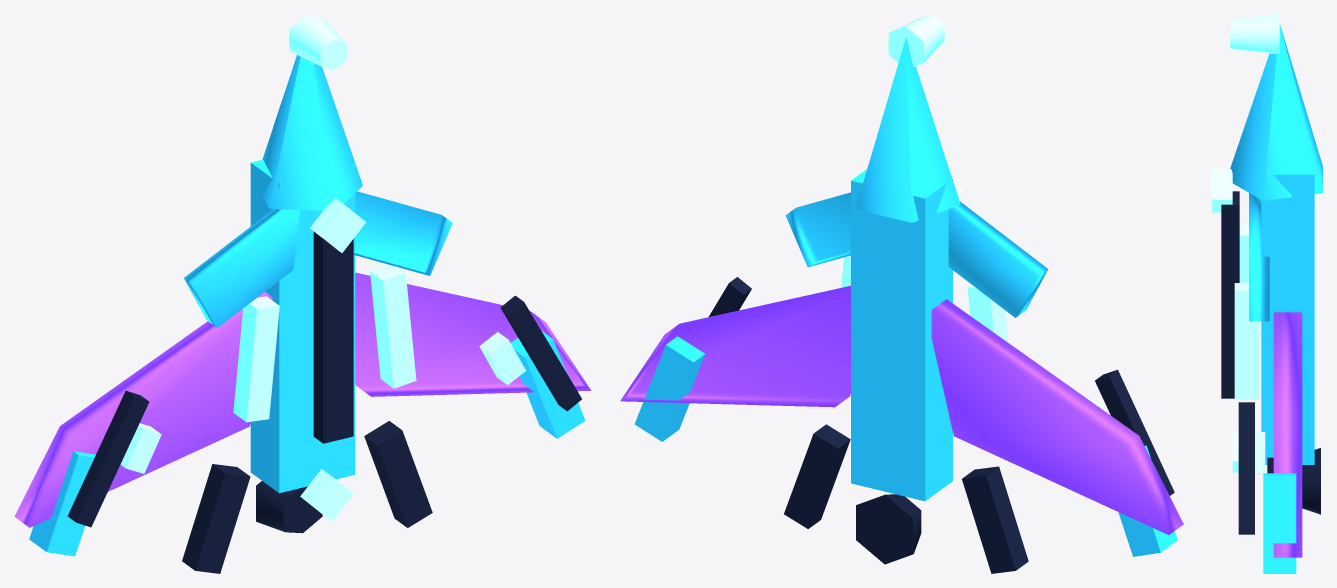
Rendered from enemy-skimmer.glb.
3 renders of one model, left to right at view 1: azimuth 30°, elevation 25°; view 2: azimuth 150°, elevation 25°; view 3: azimuth 270°, elevation 25°, orthographic. The views are drawn at different scales.
Parts seen in each view (by area): view 1: left_knife_wing, needle_body, right_knife_wing, nose_spike, black_service_spine, left_forward_canard, right_forward_canard, left_acceleration_slit, left_tail_vane, right_acceleration_slit, right_tail_vane, left_cold_edge_frame (+9 smaller); view 2: needle_body, left_knife_wing, right_knife_wing, nose_spike, left_forward_canard, left_tail_vane, right_tip, right_tail_vane, rear_thruster, right_forward_canard, left_cold_edge_frame, needle_muzzle_glow (+3 smaller); view 3: needle_body, nose_spike, right_knife_wing, black_service_spine, right_tip, right_acceleration_slit, right_cold_edge_frame, right_forward_canard, needle_muzzle_glow, rear_thruster, front_capacitor_chip, left_acceleration_slit (+2 smaller).
Boxes of the visible parts, x1,y1,x2,y2 form: left_knife_wing: (14, 292, 272, 527); needle_body: (250, 159, 355, 493); right_knife_wing: (355, 272, 591, 396); nose_spike: (262, 55, 362, 210); black_service_spine: (313, 231, 353, 443); left_forward_canard: (184, 209, 300, 327); right_forward_canard: (353, 191, 452, 275); left_acceleration_slit: (233, 296, 279, 422); left_tail_vane: (182, 464, 250, 573); right_acceleration_slit: (370, 264, 416, 388); right_tail_vane: (364, 421, 432, 527); left_cold_edge_frame: (67, 390, 149, 527); needle_body: (851, 169, 952, 501); left_knife_wing: (931, 299, 1183, 534); right_knife_wing: (620, 286, 850, 407); nose_spike: (855, 37, 960, 222); left_forward_canard: (948, 201, 1048, 317); left_tail_vane: (962, 466, 1028, 573); right_tip: (634, 336, 705, 441); right_tail_vane: (784, 424, 850, 528); rear_thruster: (856, 494, 921, 564); right_forward_canard: (785, 192, 850, 267); left_cold_edge_frame: (1095, 369, 1174, 495); needle_muzzle_glow: (888, 14, 944, 66); needle_body: (1261, 169, 1314, 464); nose_spike: (1230, 23, 1322, 200); right_knife_wing: (1273, 312, 1302, 557); black_service_spine: (1221, 191, 1239, 398); right_tip: (1263, 473, 1296, 573); right_acceleration_slit: (1234, 283, 1259, 399); right_cold_edge_frame: (1238, 402, 1254, 534); right_forward_canard: (1249, 193, 1269, 321); needle_muzzle_glow: (1230, 14, 1279, 53); rear_thruster: (1302, 448, 1320, 514); front_capacitor_chip: (1212, 169, 1232, 212); left_acceleration_slit: (1239, 223, 1248, 282).
Size of the model in its own units: 1.48 by 1.35 by 0.2702.
